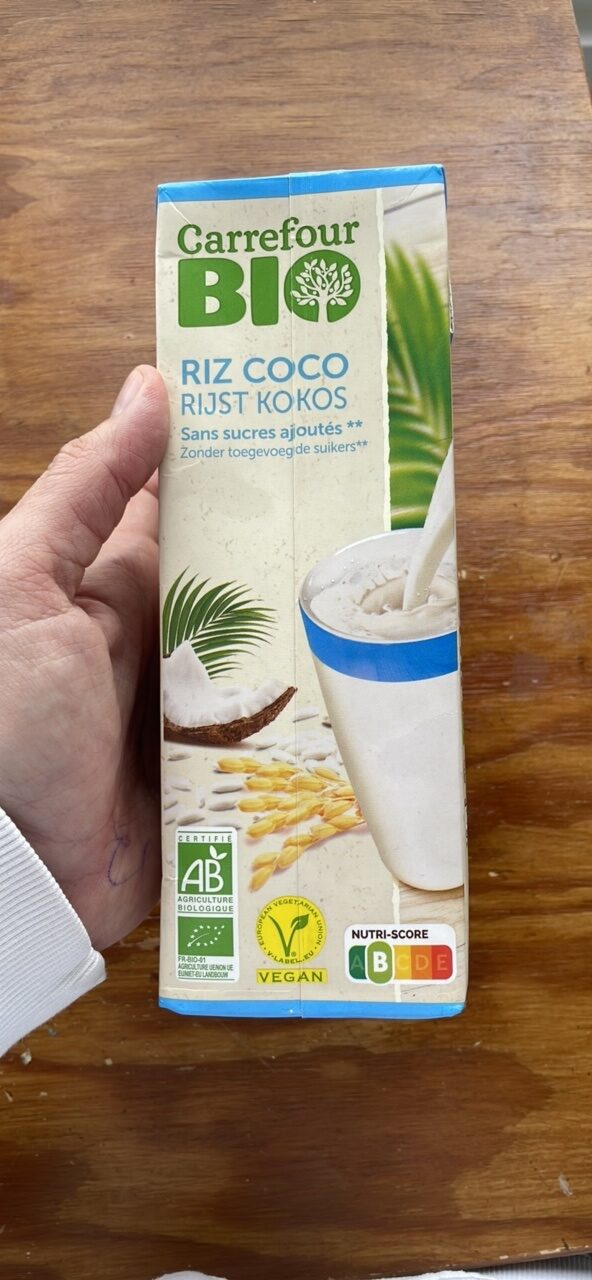Riz Coco: (30, 64, 562, 1216)
